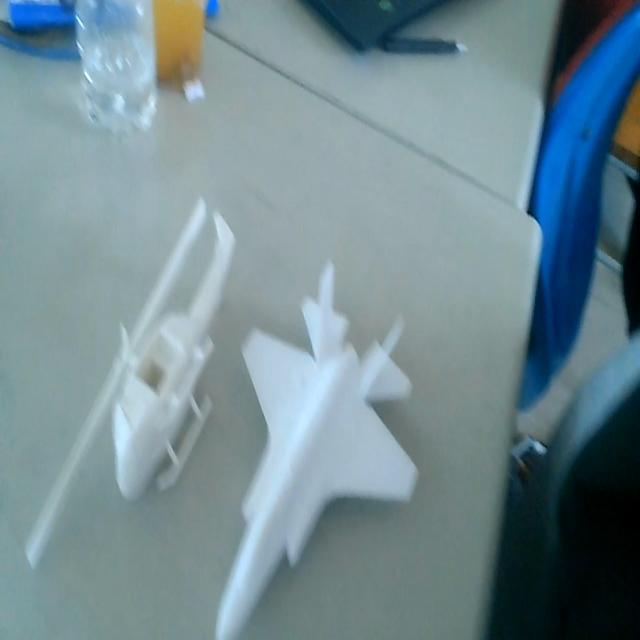Helicopter: (26, 195, 236, 559)
Jet: (216, 262, 420, 640)
